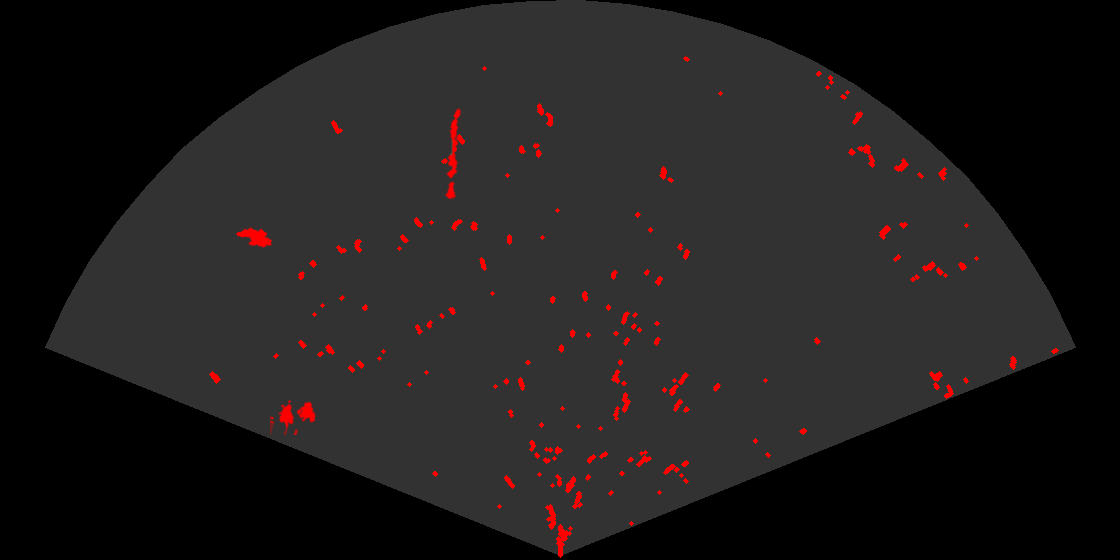AUV: (234, 226, 274, 249)
cage: (270, 398, 317, 435)
chain: (443, 106, 463, 199)
